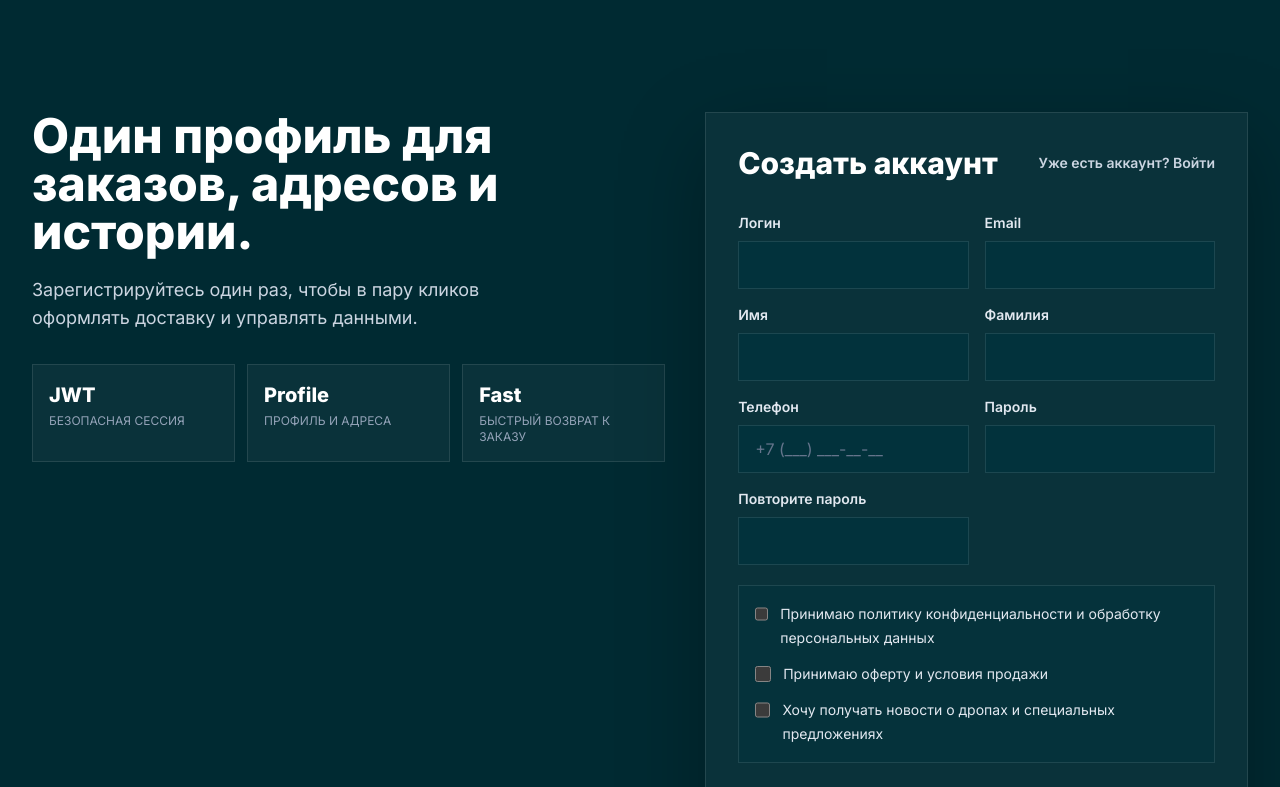
Test: AuthPage › formats Russian phone input and hides register eyebrow in form card
Type "9991234567" into the field named "phone".
click(853, 449); type("9991234567")  # box [738,425,969,473]
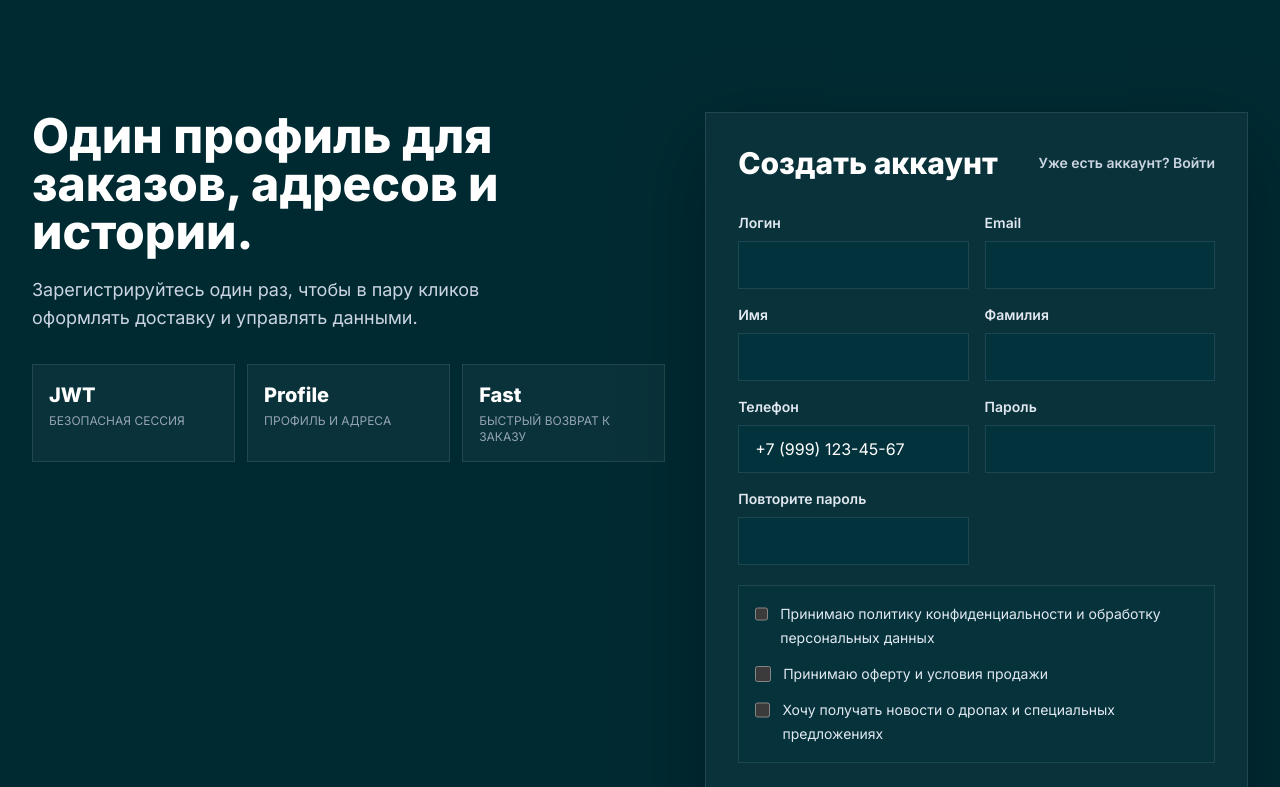
Expected: the field named "phone" holds "+7 (999) 123-45-67", [738,425,969,473]
